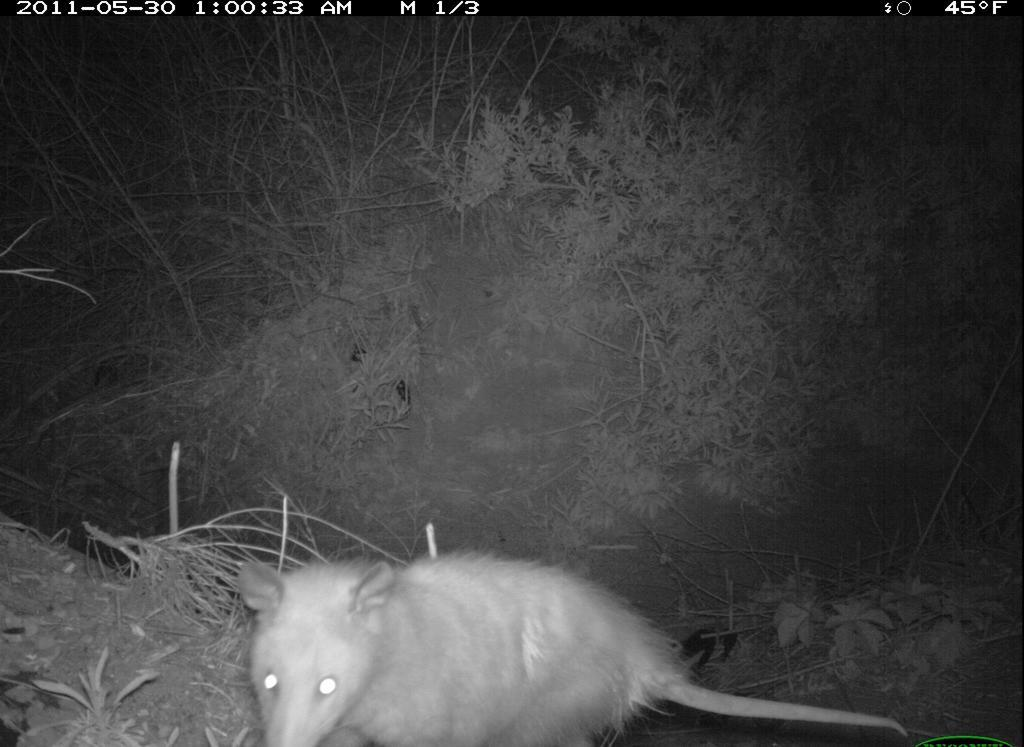opossum: (203, 520, 931, 747)
